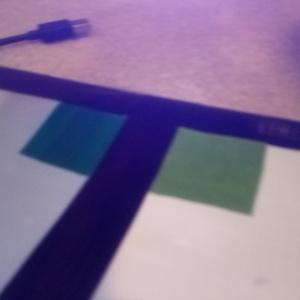bottom_right: (130, 114, 268, 216), (20, 95, 157, 176)
